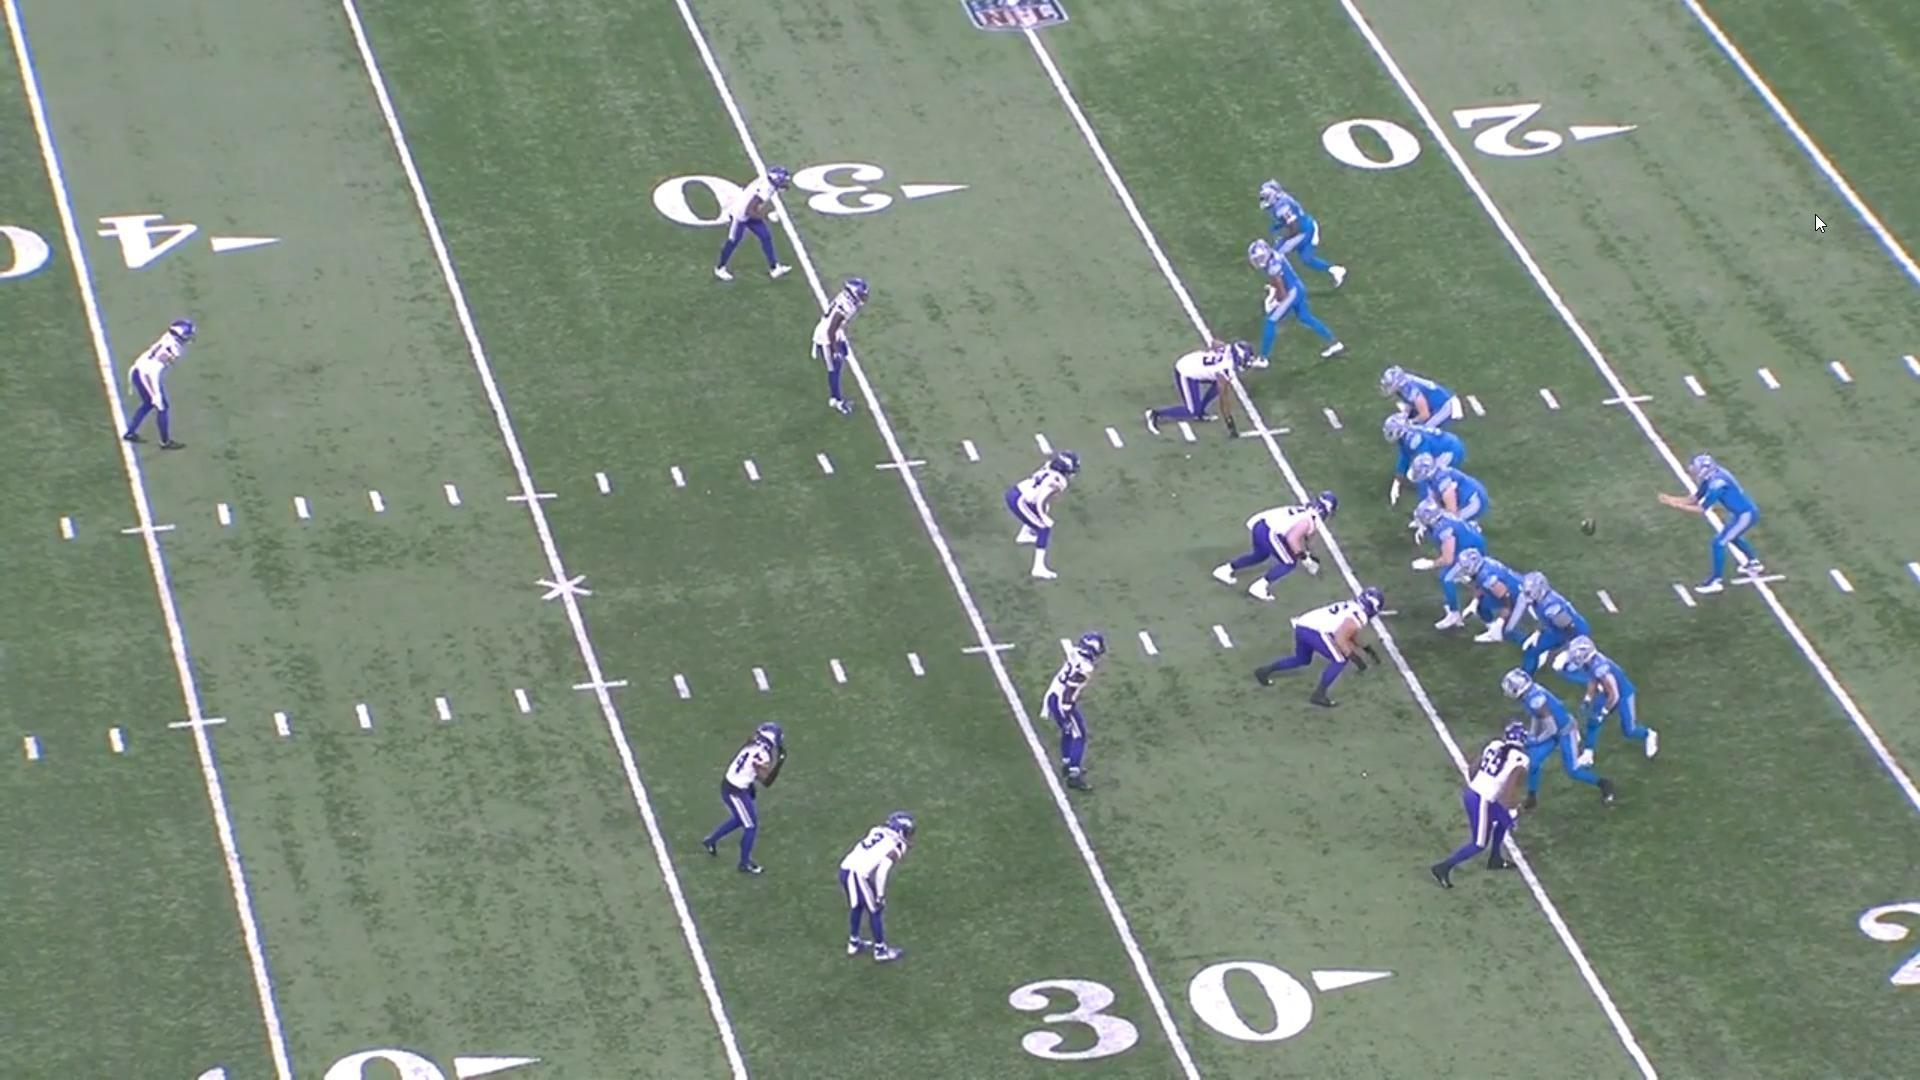20R: (1320, 102, 1639, 171), (1855, 901, 1920, 988)
30R: (1009, 961, 1399, 1062), (651, 161, 971, 225)
40R: (0, 212, 281, 277)
